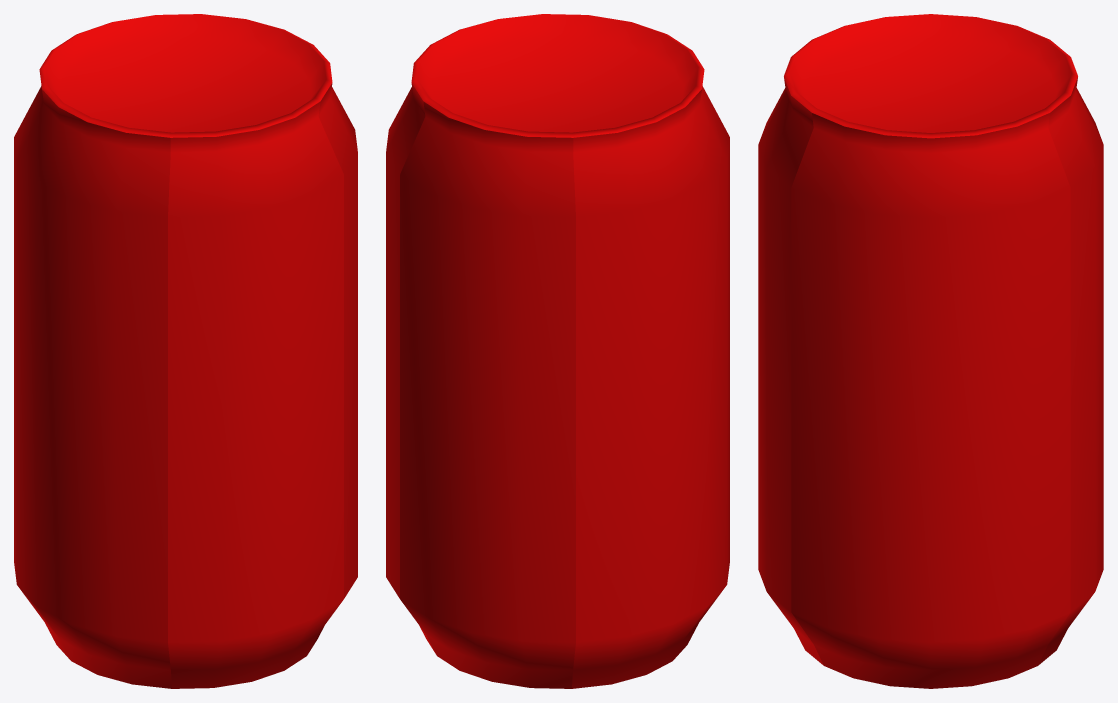
The model's file is Ing_SodaCan.fbx.
3 renders of one model, left to right at view 1: azimuth 30°, elevation 25°; view 2: azimuth 150°, elevation 25°; view 3: azimuth 270°, elevation 25°, orthographic.
Visible parts, largest first — view 1: Ing_SodaCan_low; view 2: Ing_SodaCan_low; view 3: Ing_SodaCan_low.
Part boxes in pixels (x1,y1,x2,y2): Ing_SodaCan_low: [14, 14, 357, 688]; Ing_SodaCan_low: [386, 14, 729, 688]; Ing_SodaCan_low: [758, 14, 1103, 688].
Size of the model in its own units: 11.43 by 20.5 by 11.43.
